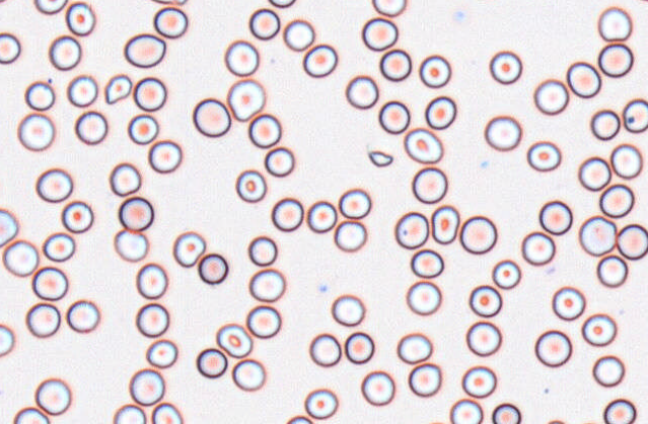RBC: (226, 78, 265, 121), (192, 97, 231, 137), (578, 215, 616, 256), (123, 32, 166, 68), (459, 215, 497, 254), (534, 329, 572, 367), (17, 112, 54, 151), (403, 127, 443, 163), (2, 239, 39, 277), (34, 377, 71, 415), (411, 166, 447, 203), (533, 78, 569, 115), (484, 115, 521, 151), (35, 167, 73, 202), (394, 211, 429, 249), (129, 368, 164, 406), (465, 320, 501, 356), (224, 39, 259, 76), (566, 61, 601, 98), (248, 267, 285, 302), (361, 16, 398, 51), (360, 370, 395, 406), (405, 280, 441, 315), (216, 323, 252, 358), (31, 266, 68, 300), (25, 302, 60, 337), (118, 196, 153, 231), (599, 183, 634, 218), (597, 6, 632, 41), (597, 43, 633, 77), (135, 262, 168, 299), (407, 362, 441, 397), (113, 228, 148, 262), (135, 302, 169, 337), (302, 43, 337, 77), (246, 304, 281, 338), (147, 139, 182, 173), (538, 200, 572, 235), (172, 231, 205, 267), (610, 143, 643, 179), (581, 313, 617, 346), (430, 204, 459, 244), (66, 299, 100, 333), (521, 231, 555, 265), (551, 286, 585, 320), (231, 358, 266, 391), (48, 35, 81, 70), (345, 74, 378, 109), (578, 156, 611, 191), (461, 365, 496, 398), (248, 113, 281, 148), (133, 76, 166, 111), (396, 332, 432, 364), (616, 223, 647, 260), (333, 219, 367, 252), (468, 284, 502, 317), (74, 110, 107, 144), (489, 50, 522, 84), (418, 54, 451, 88), (309, 332, 341, 367), (153, 6, 188, 38), (592, 354, 625, 387), (282, 18, 315, 51), (271, 197, 303, 231), (109, 162, 141, 196), (378, 100, 410, 134), (331, 294, 365, 326), (424, 95, 456, 129), (526, 140, 561, 171), (66, 74, 98, 107), (248, 7, 280, 40), (379, 48, 411, 81), (596, 254, 628, 287), (61, 200, 93, 233), (304, 388, 338, 419), (65, 1, 95, 36), (306, 200, 337, 233), (235, 169, 266, 202), (338, 188, 371, 219), (197, 252, 228, 284), (195, 347, 227, 378), (410, 248, 443, 278), (344, 331, 374, 364), (42, 232, 75, 262), (145, 338, 178, 368), (127, 113, 158, 144), (590, 108, 620, 140), (264, 146, 294, 177), (247, 235, 277, 266), (24, 80, 54, 110), (491, 259, 521, 289), (622, 98, 647, 133), (449, 398, 483, 423), (603, 398, 636, 423), (0, 207, 18, 246), (113, 403, 146, 423), (151, 402, 182, 423), (0, 32, 20, 64), (491, 402, 521, 423), (13, 406, 49, 423), (371, 0, 406, 17), (33, 0, 67, 14), (0, 323, 14, 356), (285, 415, 313, 423), (268, 0, 296, 8), (149, 0, 187, 5), (545, 418, 565, 423)
Schistocyte: (105, 76, 132, 105), (367, 150, 396, 167)
